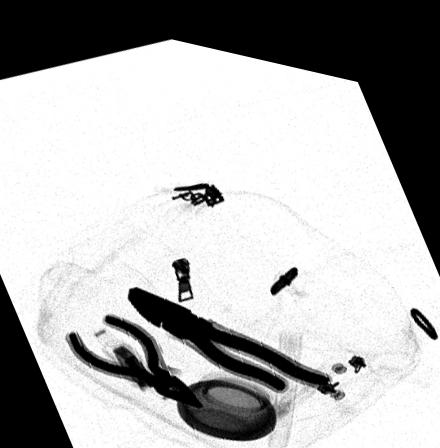Pliers: (123, 278, 333, 382), (63, 306, 209, 402)
